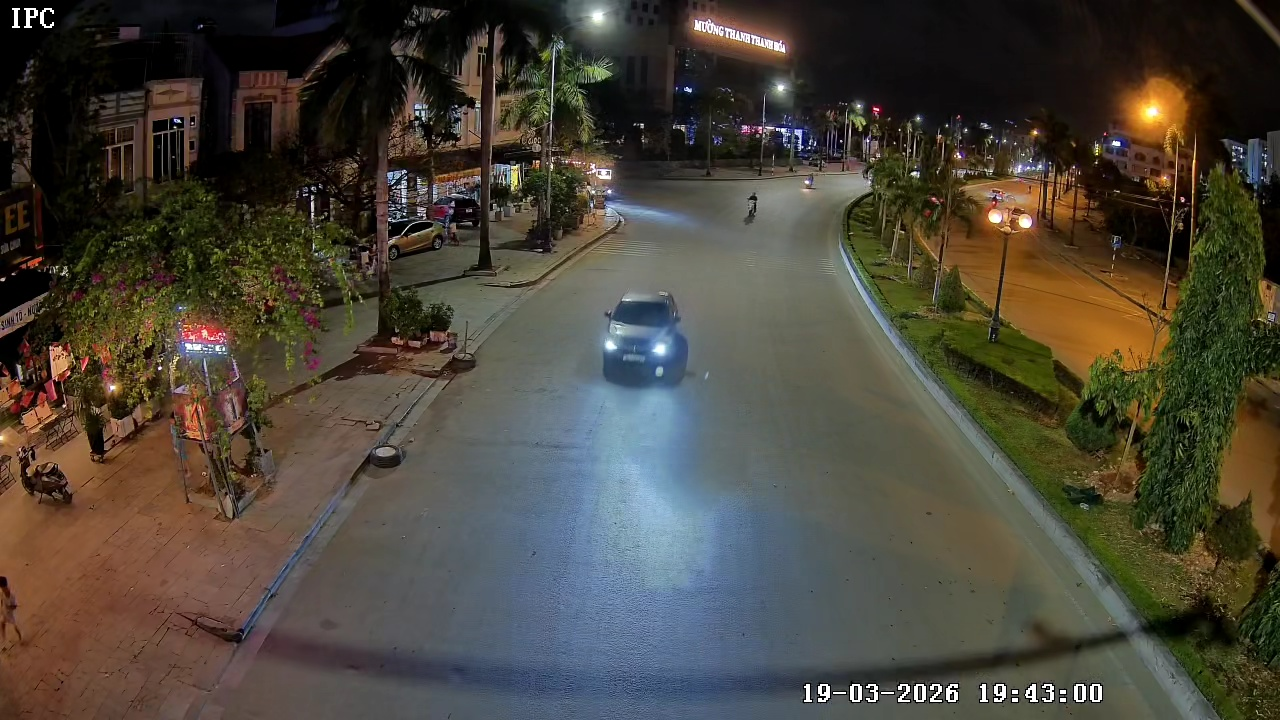car: (600, 288, 692, 384)
motorbike: (738, 186, 764, 226)
